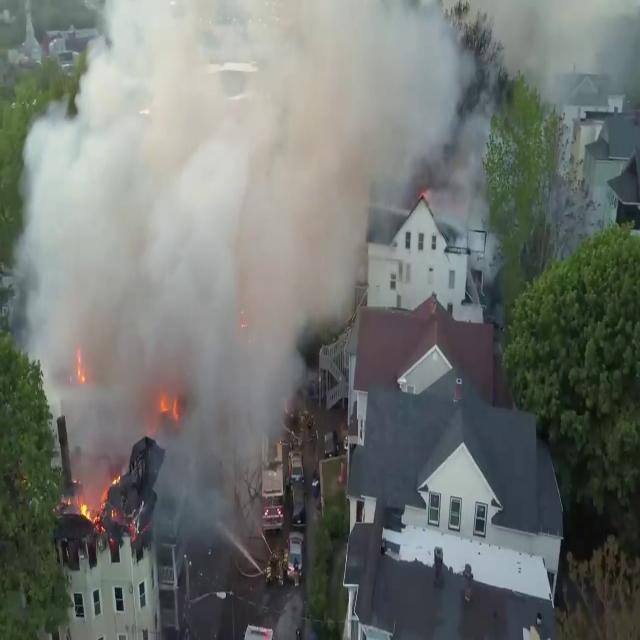Fire: (70, 472, 120, 530)
Smoke: (9, 0, 356, 504), (71, 0, 483, 245)
